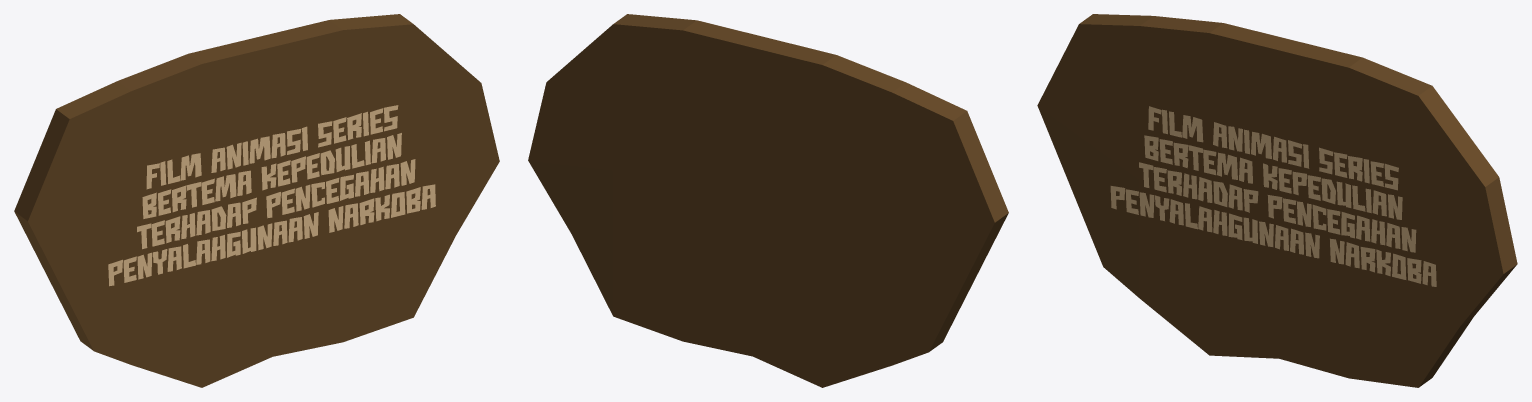
The model's file is ui_1_ficusia.fbx.
The picture shows the model from 3 angles, left to right: view 1: azimuth 30°, elevation 25°; view 2: azimuth 150°, elevation 25°; view 3: azimuth 330°, elevation 25°; orthographic projection.
Parts seen in each view (by area): view 1: Cube.003, Text.002; view 2: Cube.003; view 3: Cube.003, Text.002.
Part boxes in pixels (<box>): Cube.003: <box>14,14,499,387</box>; Text.002: <box>108,105,435,286</box>; Cube.003: <box>528,14,1008,387</box>; Cube.003: <box>1037,14,1517,387</box>; Text.002: <box>1110,106,1436,286</box>.
Size of the model in its own units: 256 by 168 by 16.5.
